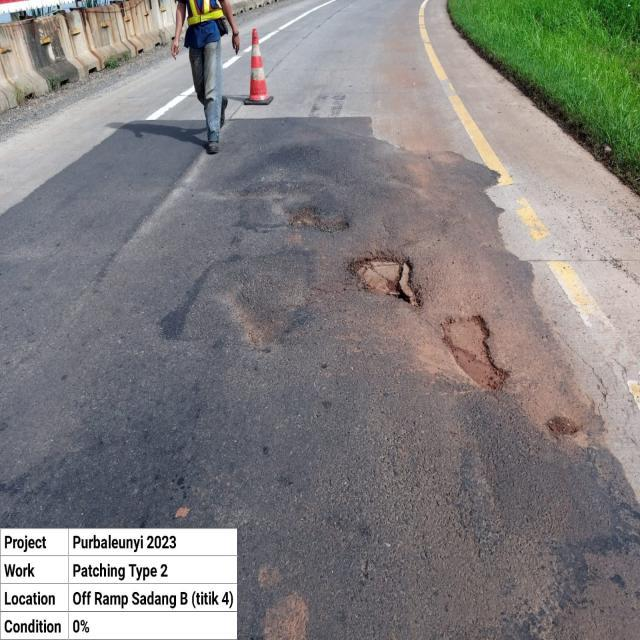Buraco: (436, 312, 516, 394), (343, 247, 428, 310), (279, 205, 358, 236), (540, 413, 587, 446)
